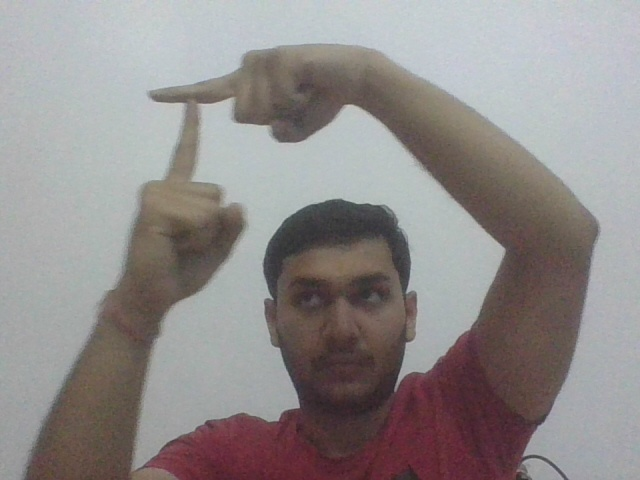T: (144, 72, 228, 175)
